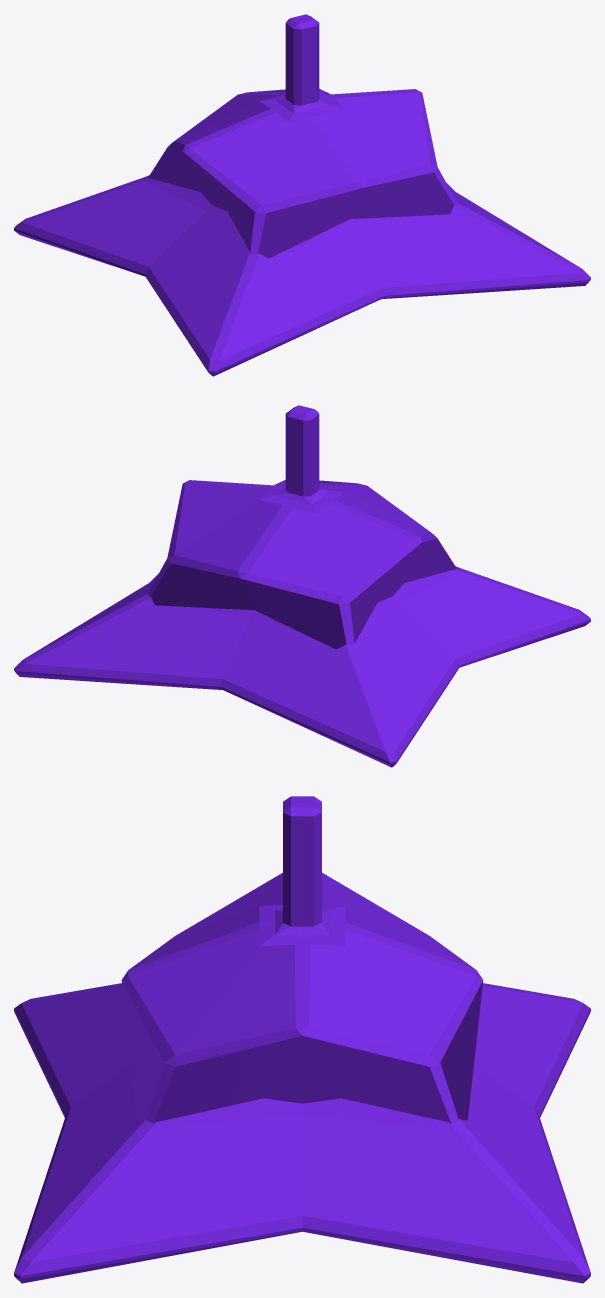
Rendered from bombilla_n3.fbx.
3 views of the same model, one above another, from view 1: azimuth 30°, elevation 25°; view 2: azimuth 150°, elevation 25°; view 3: azimuth 270°, elevation 25° (orthographic). The views are drawn at different scales.
Visible parts, largest first — view 1: bombilla.002; view 2: bombilla.002; view 3: bombilla.002.
Part boxes in pixels (x1,y1,x2,y2): bombilla.002: (14,14,590,376); bombilla.002: (14,405,590,767); bombilla.002: (14,796,590,1283).
Size of the model in its own units: 94.62 by 57.83 by 85.26.
